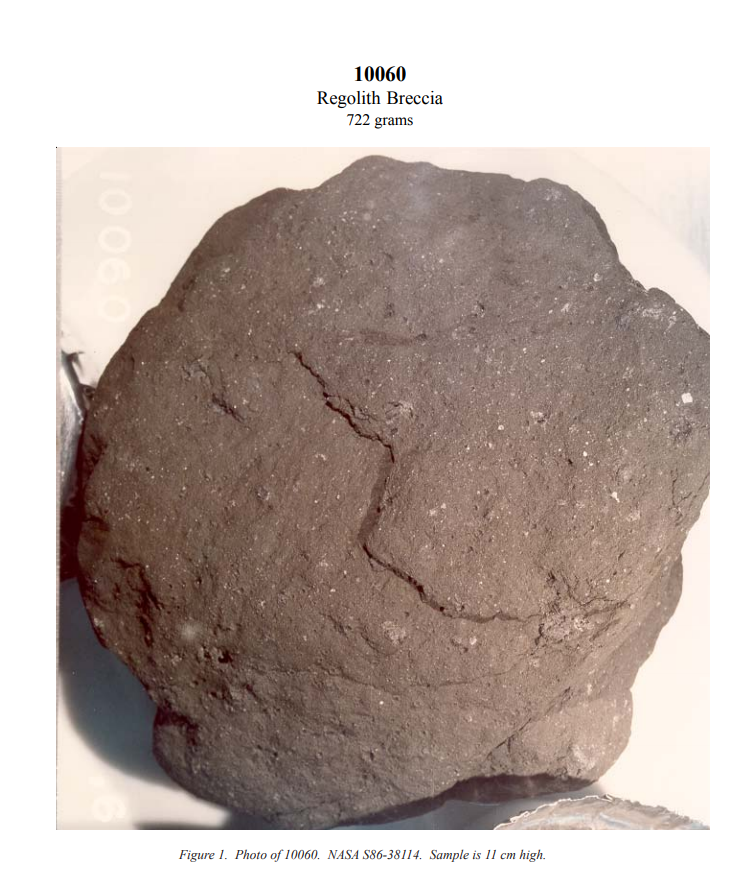Breccia: (96, 171, 681, 821)
